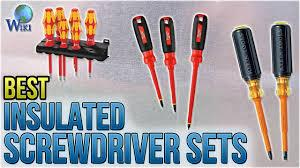screwdriver: (228, 27, 273, 160), (130, 14, 164, 106), (270, 21, 291, 160), (186, 13, 207, 128), (158, 15, 177, 111), (41, 7, 53, 76), (85, 8, 96, 77), (69, 7, 80, 75), (59, 17, 68, 80)
